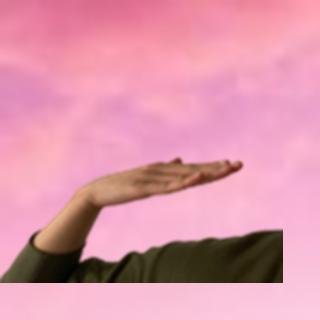WAIT: (76, 152, 251, 209)
